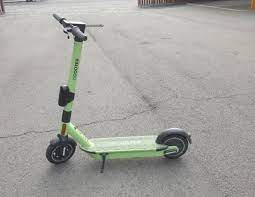kick_board: (45, 13, 192, 162)
kick_body: (91, 136, 160, 156)
kick_handler: (53, 13, 87, 40)
kick_neck: (58, 43, 83, 133)
kick_wheel: (160, 129, 191, 158), (47, 136, 74, 162)
